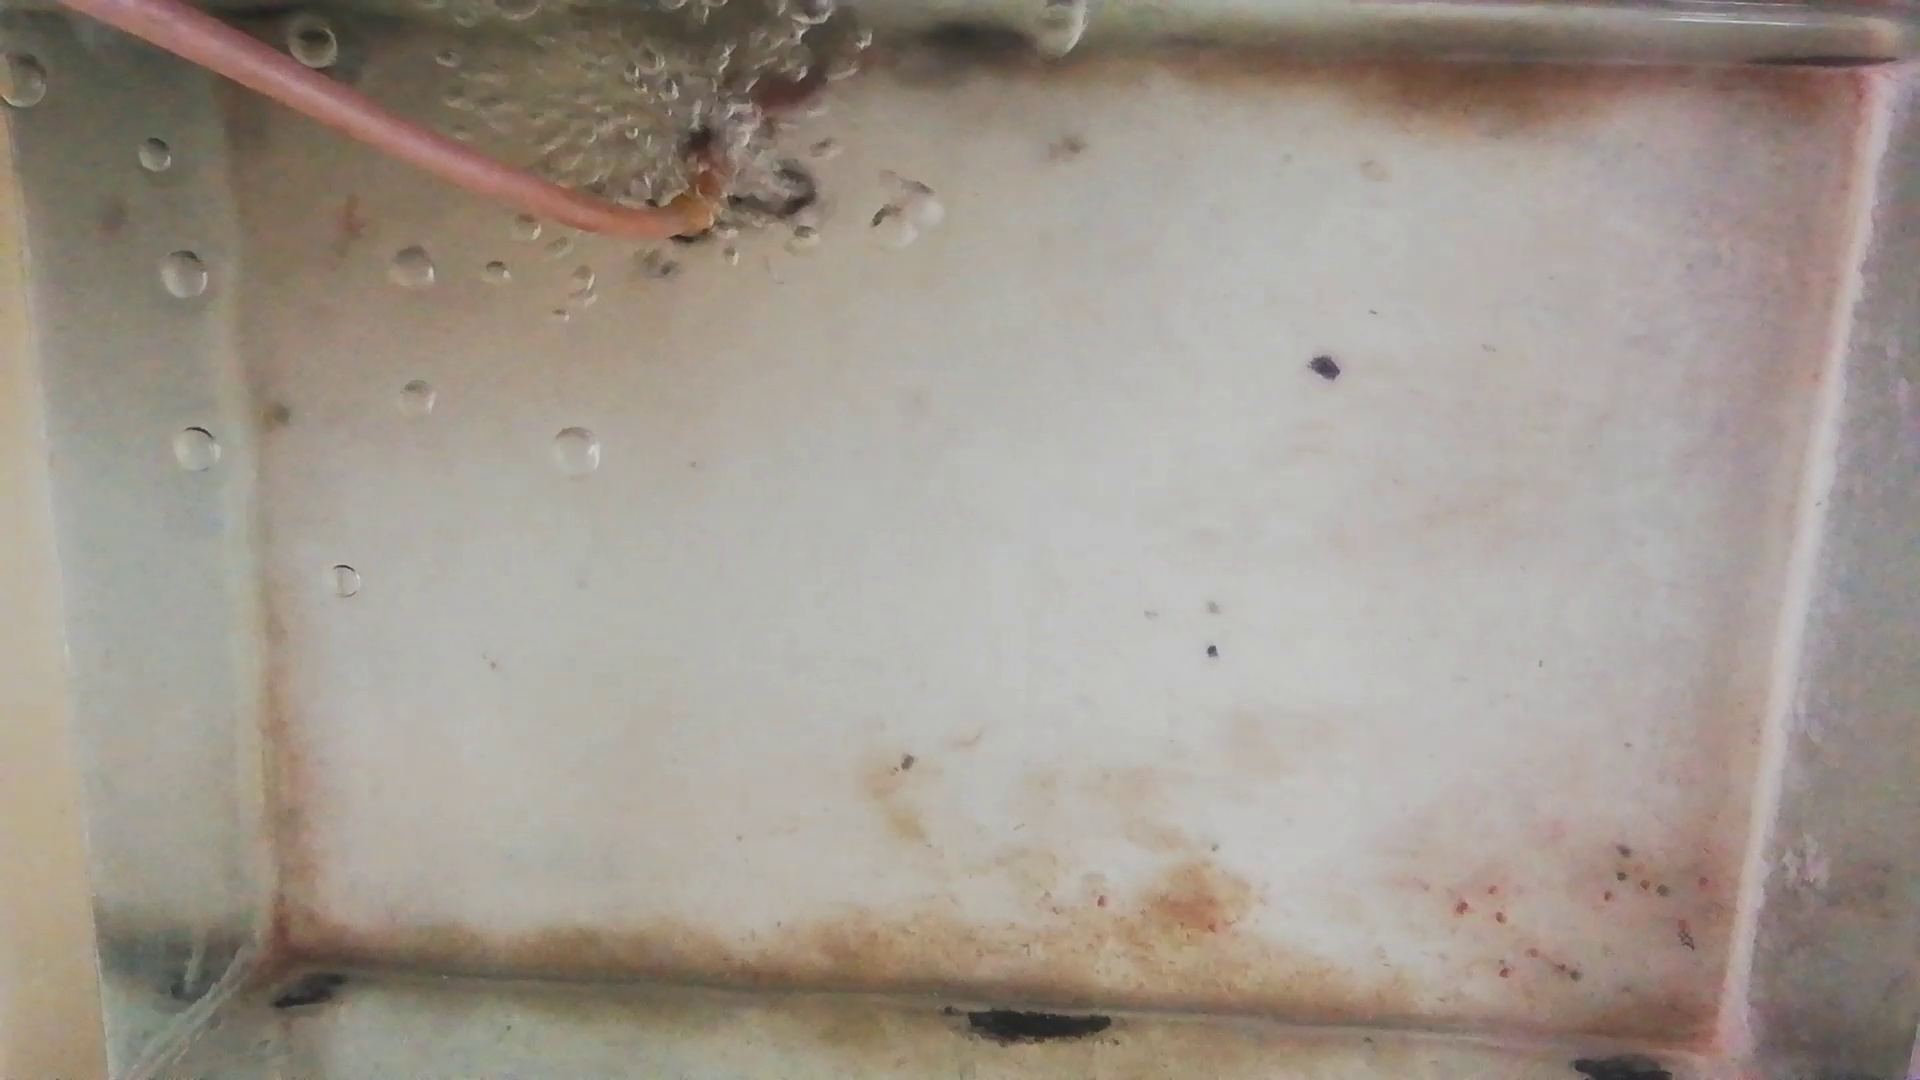fish: (704, 167, 824, 233), (680, 63, 825, 117)
